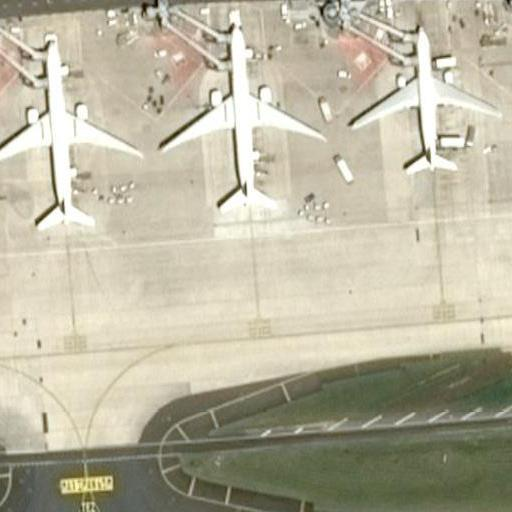Aircraft: (162, 21, 325, 217), (0, 36, 144, 233), (345, 17, 500, 176)
